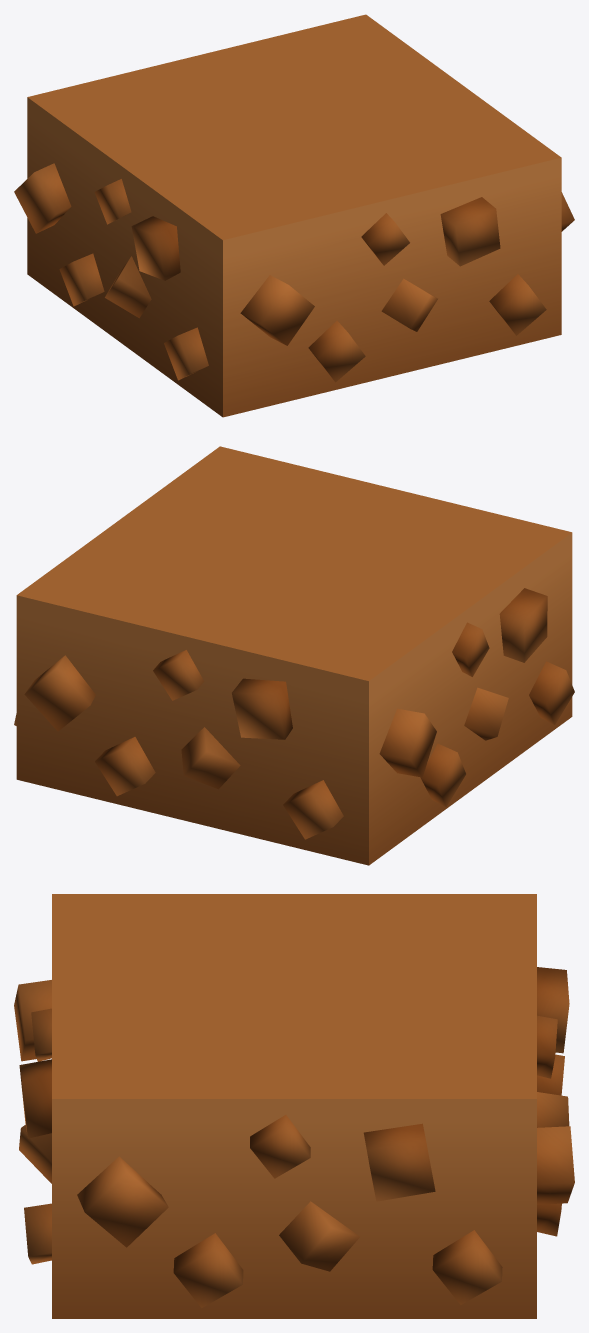
Rendered from m_Brownie04_Slice03.fbx.
The picture shows the model from 3 angles, top to bottom: view 1: azimuth 30°, elevation 25°; view 2: azimuth 150°, elevation 25°; view 3: azimuth 270°, elevation 25°; orthographic projection. The views are drawn at different scales.
Visible parts, largest first — view 1: m_Brownie04_Slice03; view 2: m_Brownie04_Slice03; view 3: m_Brownie04_Slice03.
Part boxes in pixels (left/top/right/bottom): m_Brownie04_Slice03: left=14, top=14, right=574, bottom=417; m_Brownie04_Slice03: left=14, top=446, right=574, bottom=865; m_Brownie04_Slice03: left=14, top=894, right=574, bottom=1318.
Bounding box in the file's own units: 11.57 × 5 × 11.57.
